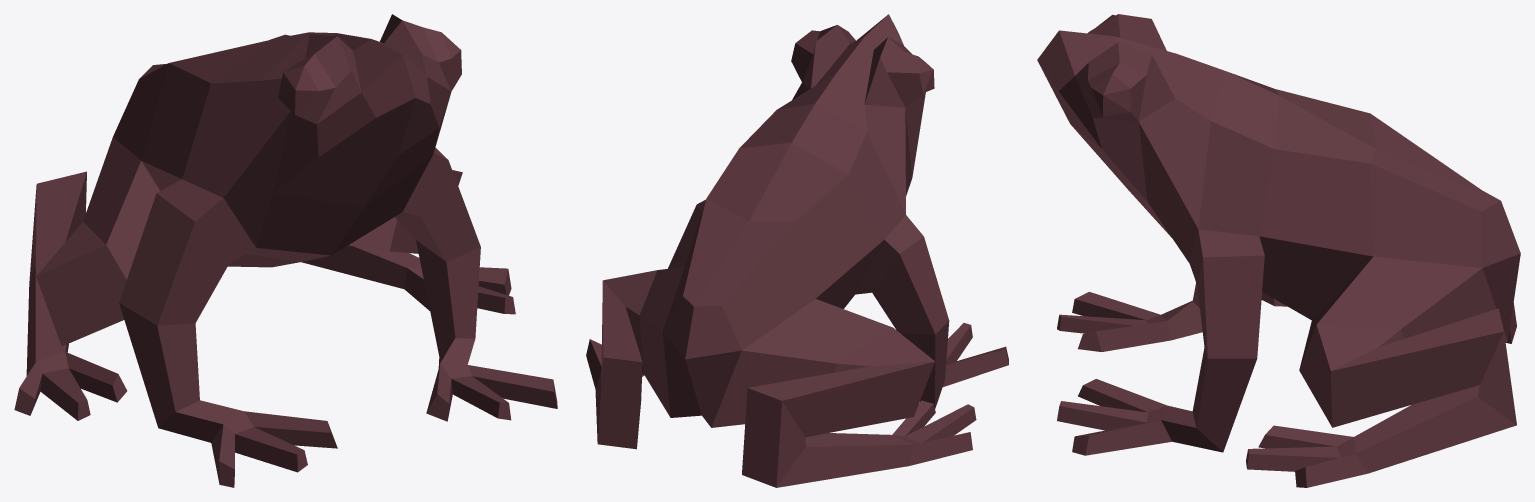
Rendered from frog.fbx.
3 renders of one model, left to right at view 1: azimuth 30°, elevation 25°; view 2: azimuth 150°, elevation 25°; view 3: azimuth 270°, elevation 25°, orthographic. The views are drawn at different scales.
Visible parts, largest first — view 1: frog; view 2: frog; view 3: frog.
Part boxes in pixels (x1,y1,x2,y2): frog: (14, 14, 557, 487); frog: (586, 14, 1008, 487); frog: (1037, 14, 1520, 487).
Bounding box in the file's own units: 0.2477 × 0.1935 × 0.2363.
